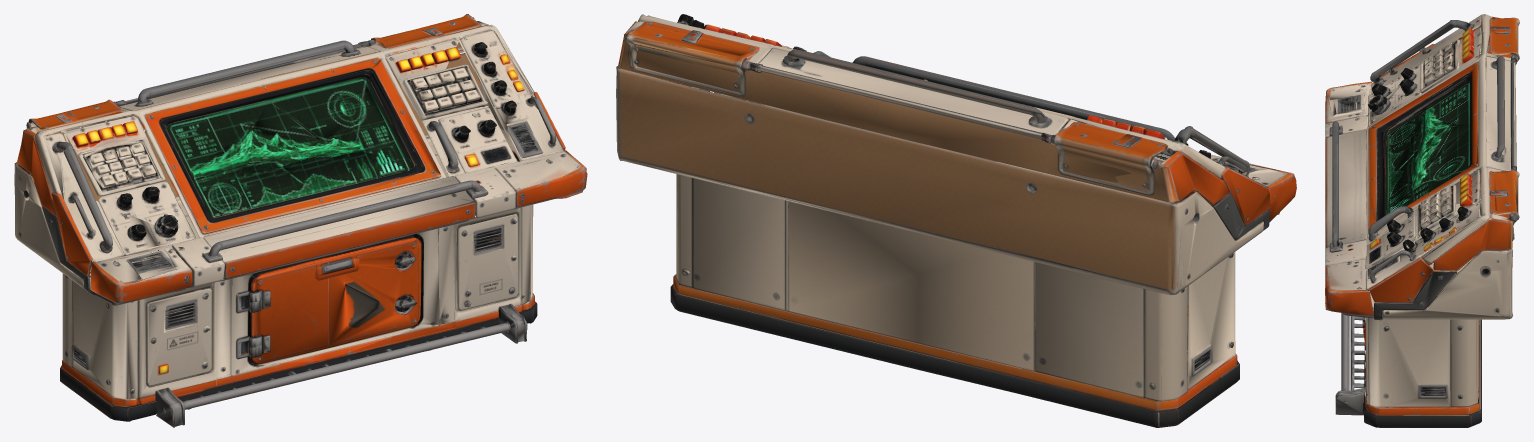
Rendered from NavConsole_T25.glb.
3 views of the same model, side by side, from view 1: azimuth 30°, elevation 25°; view 2: azimuth 150°, elevation 25°; view 3: azimuth 270°, elevation 25° (orthographic). The views are drawn at different scales.
Bounding box in the file's own units: 0.9546 × 0.4883 × 0.373.
Materials: 1 (1 with a texture image).
